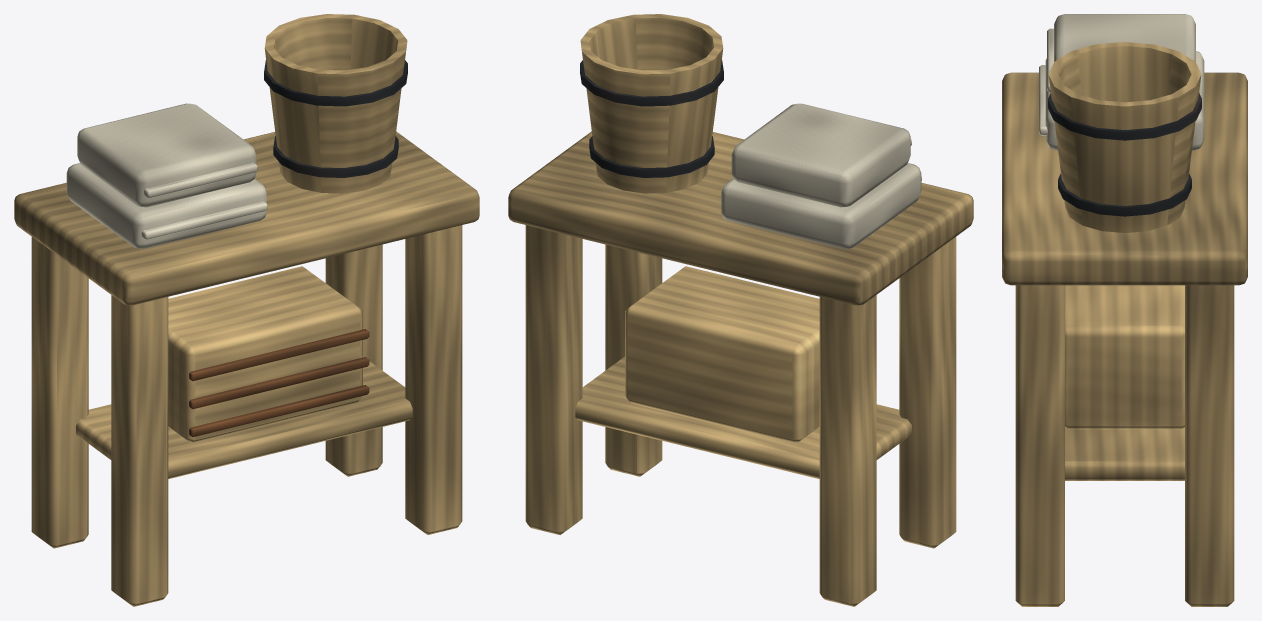
File: Furn_Spa_TowelStand.fbx
3 views of the same model, side by side, from view 1: azimuth 30°, elevation 25°; view 2: azimuth 150°, elevation 25°; view 3: azimuth 270°, elevation 25° (orthographic). The views are drawn at different scales.
Visible parts, largest first — view 1: Furn_Spa_TowelStand; view 2: Furn_Spa_TowelStand; view 3: Furn_Spa_TowelStand.
Boxes of the visible parts, <box> form: Furn_Spa_TowelStand: <box>14,14,479,606</box>; Furn_Spa_TowelStand: <box>508,14,973,606</box>; Furn_Spa_TowelStand: <box>1002,14,1247,606</box>.
Size of the model in its own units: 0.8 by 1 by 0.45.
4 materials, 4 textured.
